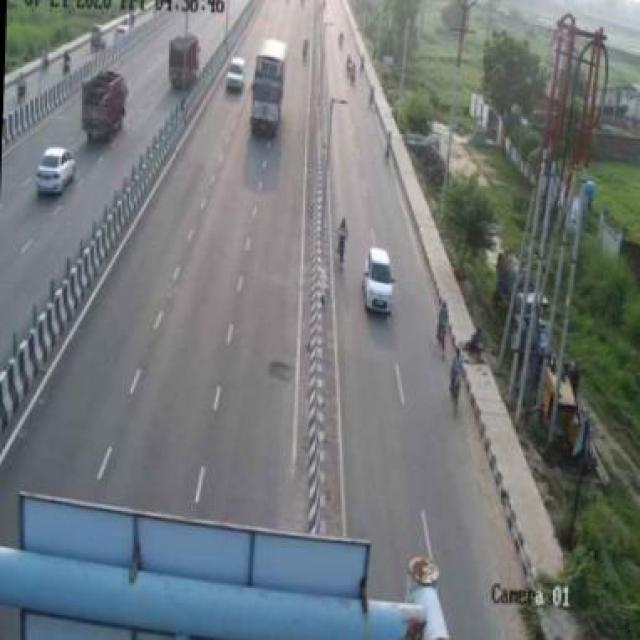car: (343, 230, 404, 324)
